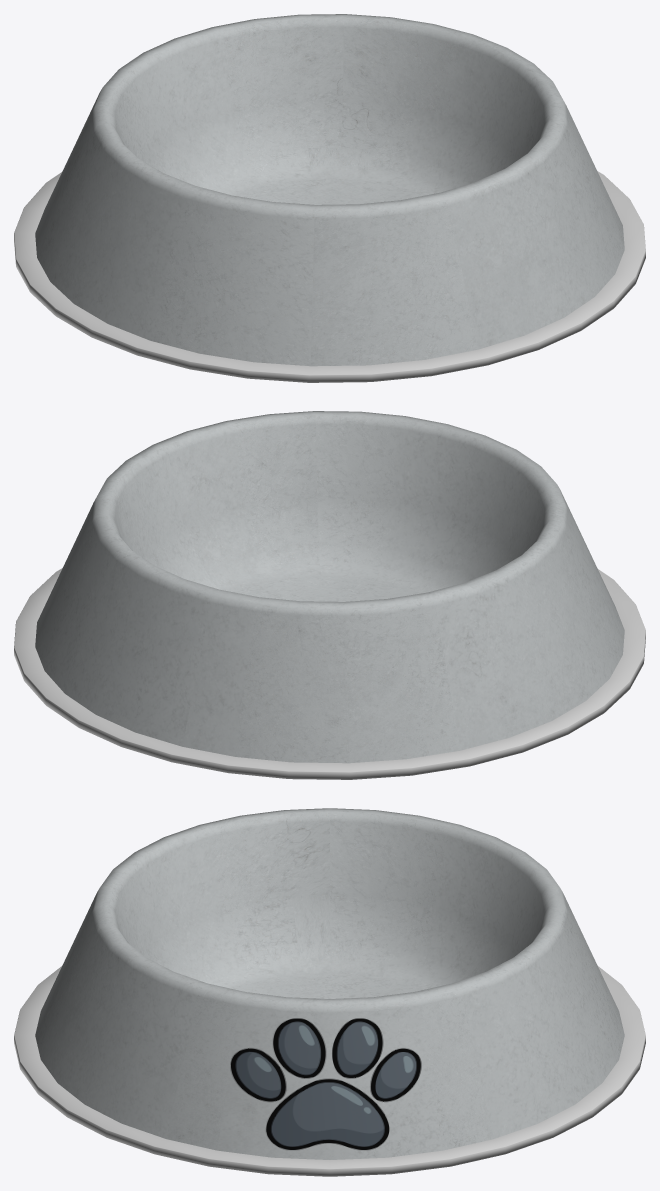
File: pet-bowl.fbx
3 views of the same model, one above another, from view 1: azimuth 30°, elevation 25°; view 2: azimuth 150°, elevation 25°; view 3: azimuth 270°, elevation 25° (orthographic).
Visible parts, largest first — view 1: pet-bowl; view 2: pet-bowl; view 3: pet-bowl.
Boxes of the visible parts, x1=… form: pet-bowl: x1=14, y1=14, x2=645, y2=382; pet-bowl: x1=14, y1=411, x2=645, y2=779; pet-bowl: x1=14, y1=808, x2=645, y2=1176.
Bounding box in the file's own units: 72.7 × 17.46 × 72.7.
